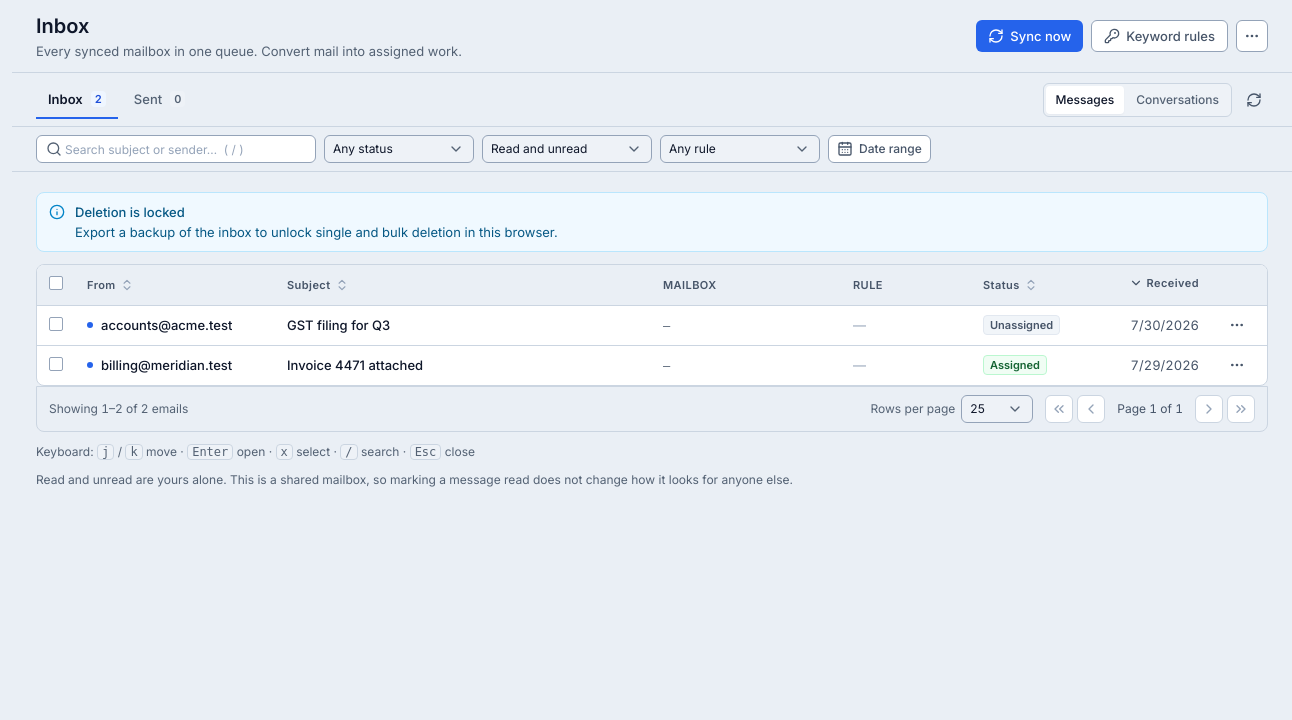
Test: EmailInbox — search is debounced and abortable › is last-QUERY-wins: a slow earlier search cannot overwrite a later one
This screenshot has width=1292, height=720.
Type "a" into the search field named "search emails".
click(176, 149); type("a")  # box [36,135,316,163]
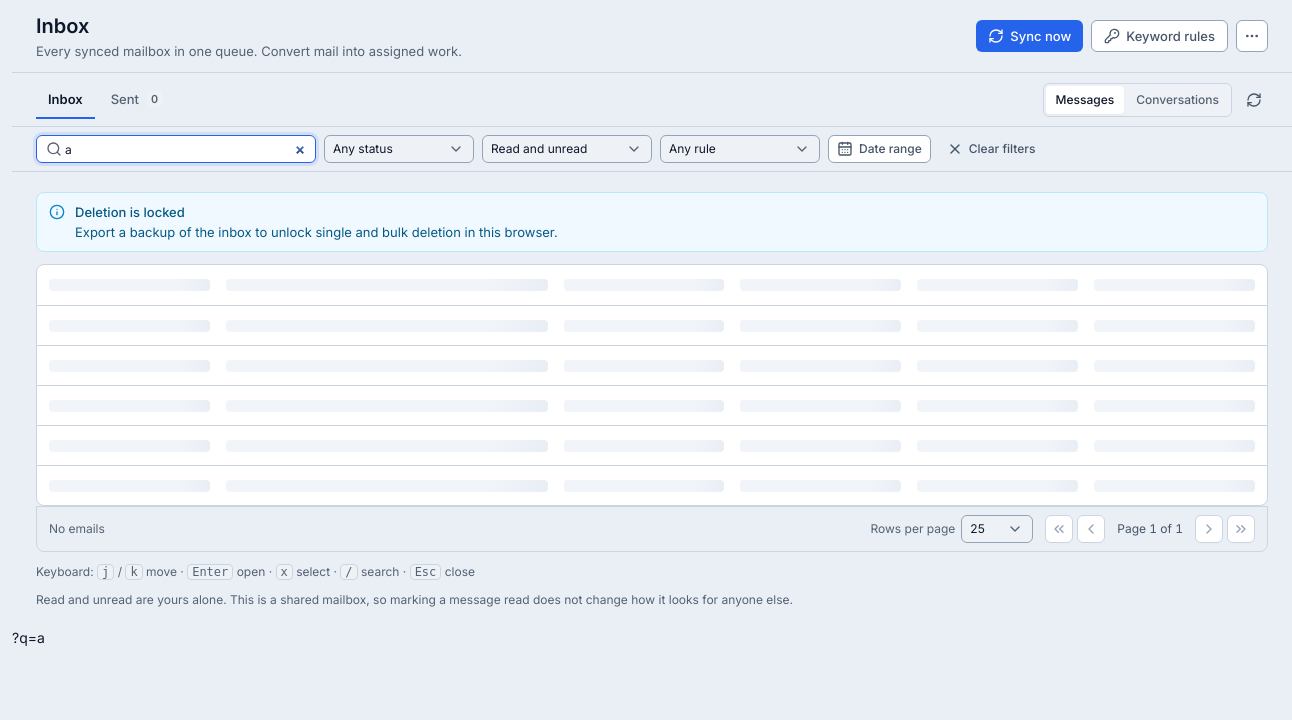
Type "b" into the search field named "search emails".
click(176, 149); type("b")  # box [36,135,316,163]
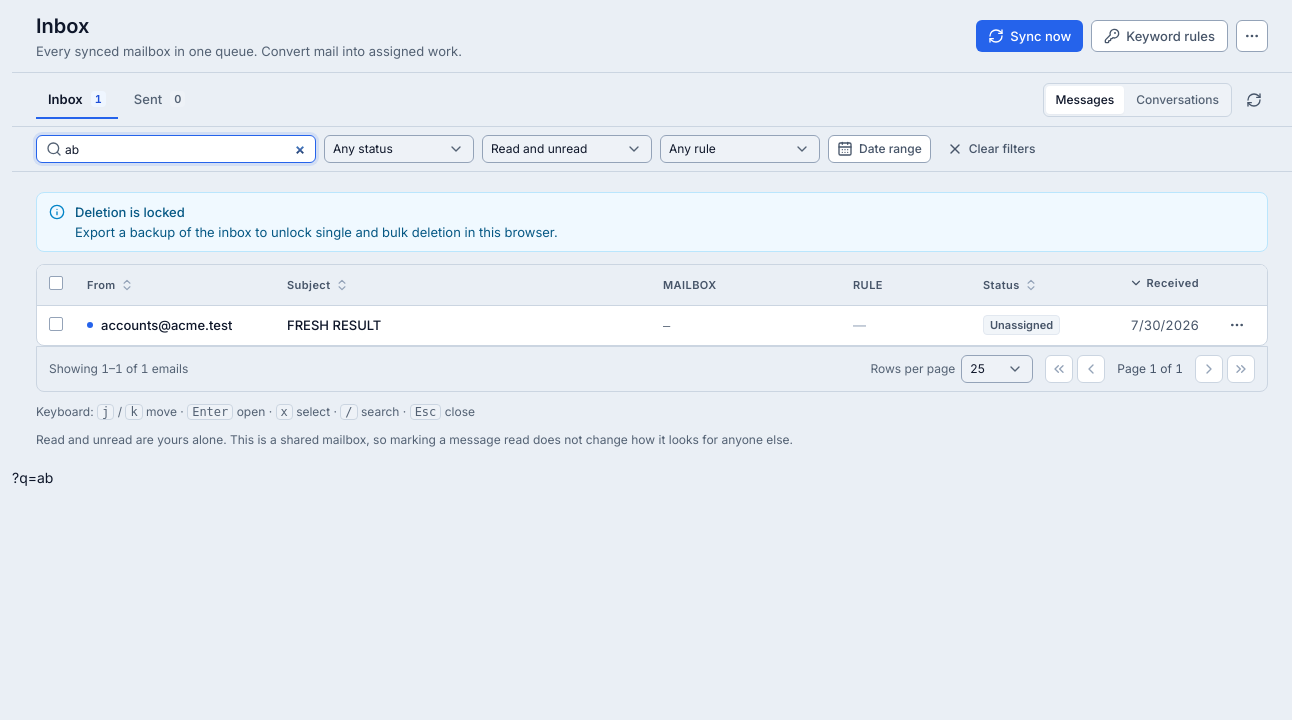
Expected: the text "FRESH RESULT" is shown, [287,317,381,333]
